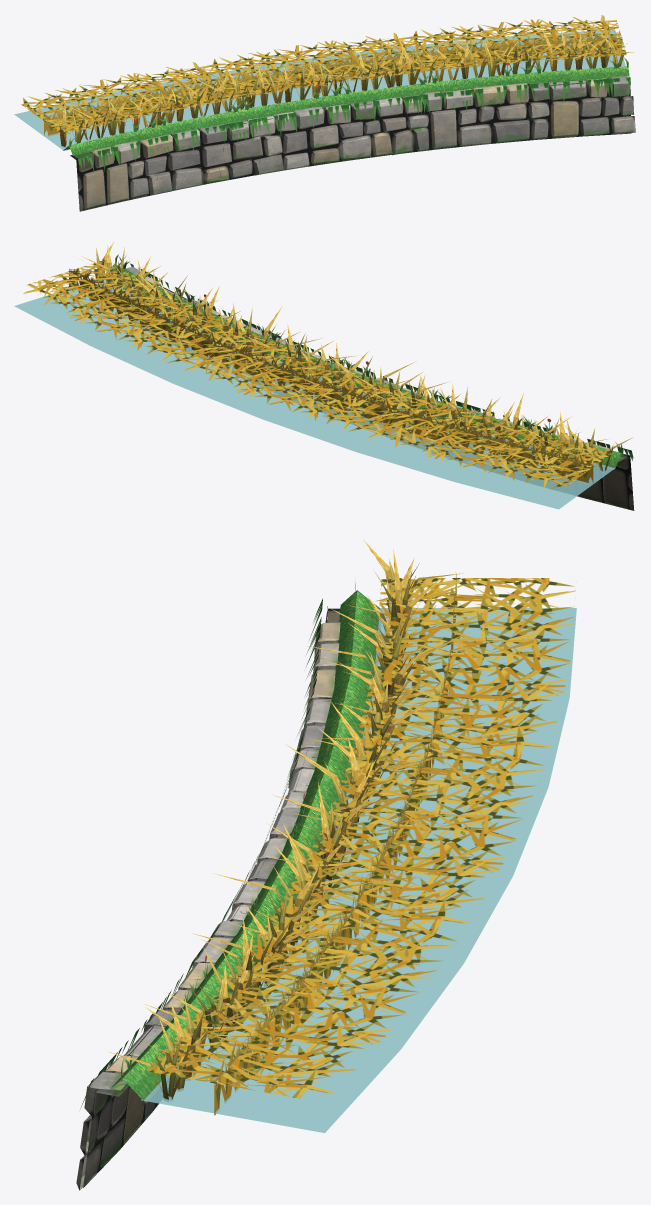
File: terrace_concave_ripe_mid_plain.glb
3 views of the same model, one above another, from view 1: azimuth 30°, elevation 25°; view 2: azimuth 150°, elevation 25°; view 3: azimuth 270°, elevation 25° (orthographic). The views are drawn at different scales.
Parts seen in each view (by area): view 1: terrace_concave_ripe_mid_plain_wall, terrace_concave_ripe_mid_plain_cards, terrace_concave_ripe_mid_plain_lip, terrace_concave_ripe_mid_plain_water, terrace_concave_ripe_mid_plain_dike; view 2: terrace_concave_ripe_mid_plain_cards, terrace_concave_ripe_mid_plain_water, terrace_concave_ripe_mid_plain_lip, terrace_concave_ripe_mid_plain_wall, terrace_concave_ripe_mid_plain_dike; view 3: terrace_concave_ripe_mid_plain_cards, terrace_concave_ripe_mid_plain_water, terrace_concave_ripe_mid_plain_lip, terrace_concave_ripe_mid_plain_wall, terrace_concave_ripe_mid_plain_dike.
Boxes of the visible parts, x1,y1,x2,y2 form: terrace_concave_ripe_mid_plain_wall: [70, 75, 635, 211]; terrace_concave_ripe_mid_plain_cards: [21, 15, 630, 171]; terrace_concave_ripe_mid_plain_lip: [54, 26, 633, 146]; terrace_concave_ripe_mid_plain_water: [14, 29, 625, 150]; terrace_concave_ripe_mid_plain_dike: [63, 66, 629, 155]; terrace_concave_ripe_mid_plain_cards: [23, 254, 633, 489]; terrace_concave_ripe_mid_plain_water: [14, 280, 615, 509]; terrace_concave_ripe_mid_plain_lip: [81, 242, 633, 471]; terrace_concave_ripe_mid_plain_wall: [125, 266, 634, 510]; terrace_concave_ripe_mid_plain_dike: [105, 263, 625, 469]; terrace_concave_ripe_mid_plain_cards: [80, 573, 575, 1115]; terrace_concave_ripe_mid_plain_water: [141, 608, 576, 1132]; terrace_concave_ripe_mid_plain_lip: [109, 539, 466, 1099]; terrace_concave_ripe_mid_plain_wall: [76, 606, 340, 1190]; terrace_concave_ripe_mid_plain_dike: [108, 590, 380, 1102].
Bounding box in the file's own units: 13.04 × 1.95 × 5.15.
Materials: 5 (4 with a texture image).
